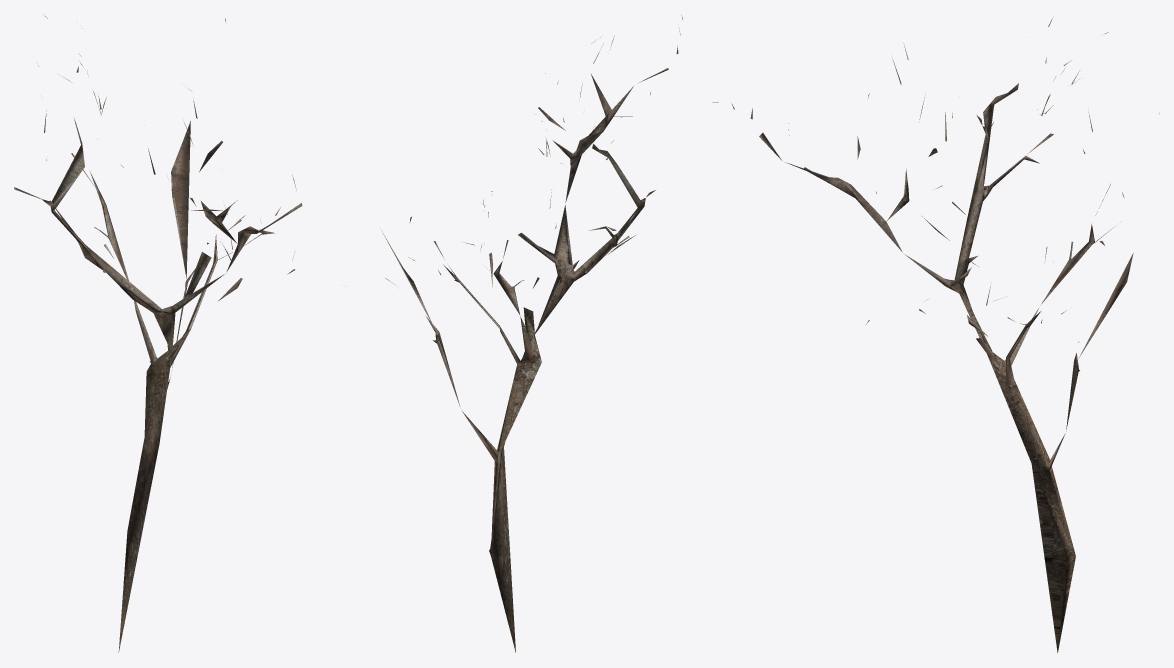
File: tree-bark.glb
3 views of the same model, side by side, from view 1: azimuth 30°, elevation 25°; view 2: azimuth 150°, elevation 25°; view 3: azimuth 270°, elevation 25° (orthographic). The views are drawn at different scales.
Parts seen in each view (by area): view 1: tree_small_02_LOD0; view 2: tree_small_02_LOD0; view 3: tree_small_02_LOD0.
Part boxes in pixels (left/top/right/bottom): tree_small_02_LOD0: left=14, top=15, right=302, bottom=652; tree_small_02_LOD0: left=382, top=15, right=682, bottom=652; tree_small_02_LOD0: left=712, top=18, right=1159, bottom=652.
Bounding box in the file's own units: 1.67 × 4.2 × 2.76.
Materials: 2 (2 with a texture image).
